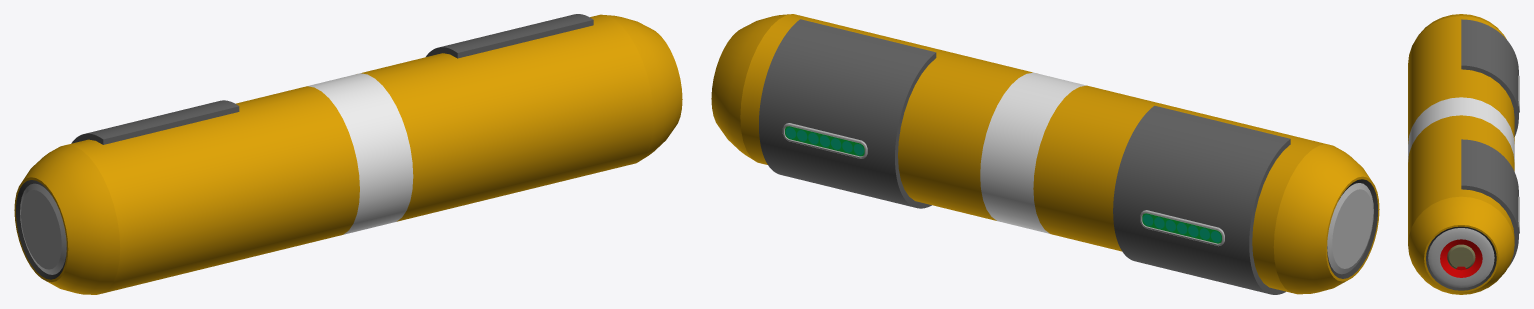
File: env_building_warehouse02_tank.fbx
3 renders of one model, left to right at view 1: azimuth 30°, elevation 25°; view 2: azimuth 150°, elevation 25°; view 3: azimuth 270°, elevation 25°, orthographic. The views are drawn at different scales.
Visible parts, largest first — view 1: pCylinder23; view 2: pCylinder23; view 3: pCylinder23.
Boxes of the visible parts, bbox=[...] form: pCylinder23: bbox=[14, 14, 682, 294]; pCylinder23: bbox=[711, 14, 1379, 294]; pCylinder23: bbox=[1408, 14, 1519, 294].
Bounding box in the file's own units: 567 × 133 × 129.
